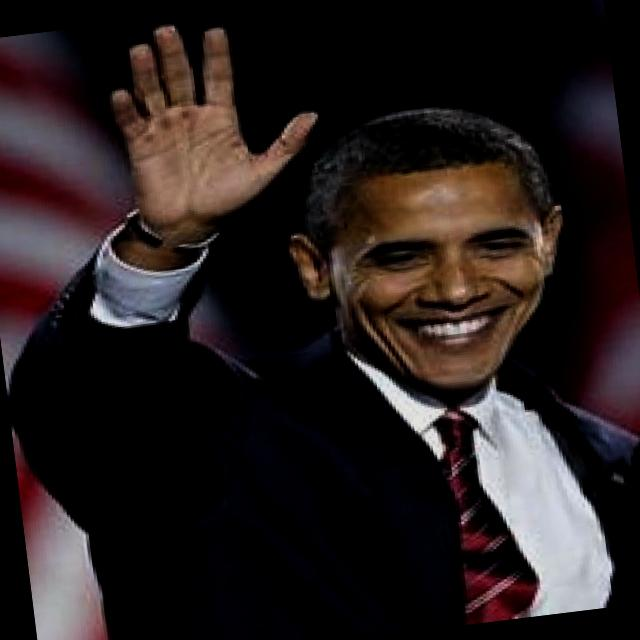no_vest: (19, 329, 640, 640)
